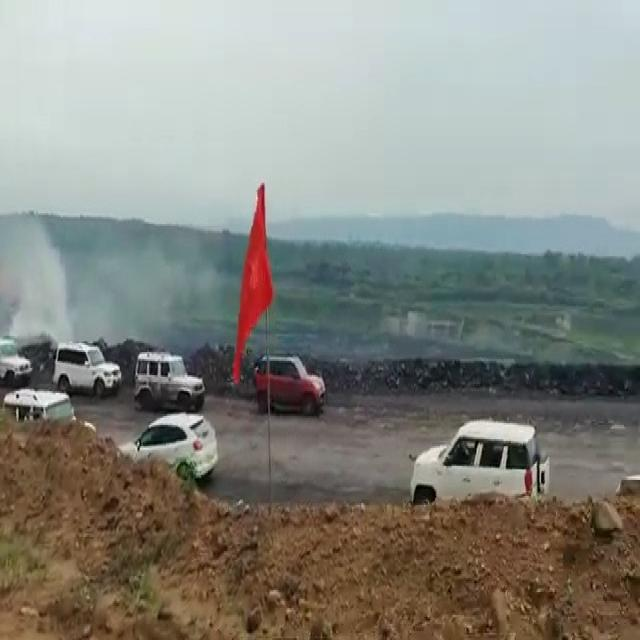light_vehicle: (405, 415, 543, 497), (138, 418, 220, 479), (257, 352, 328, 412), (130, 350, 207, 402), (56, 342, 120, 394)
